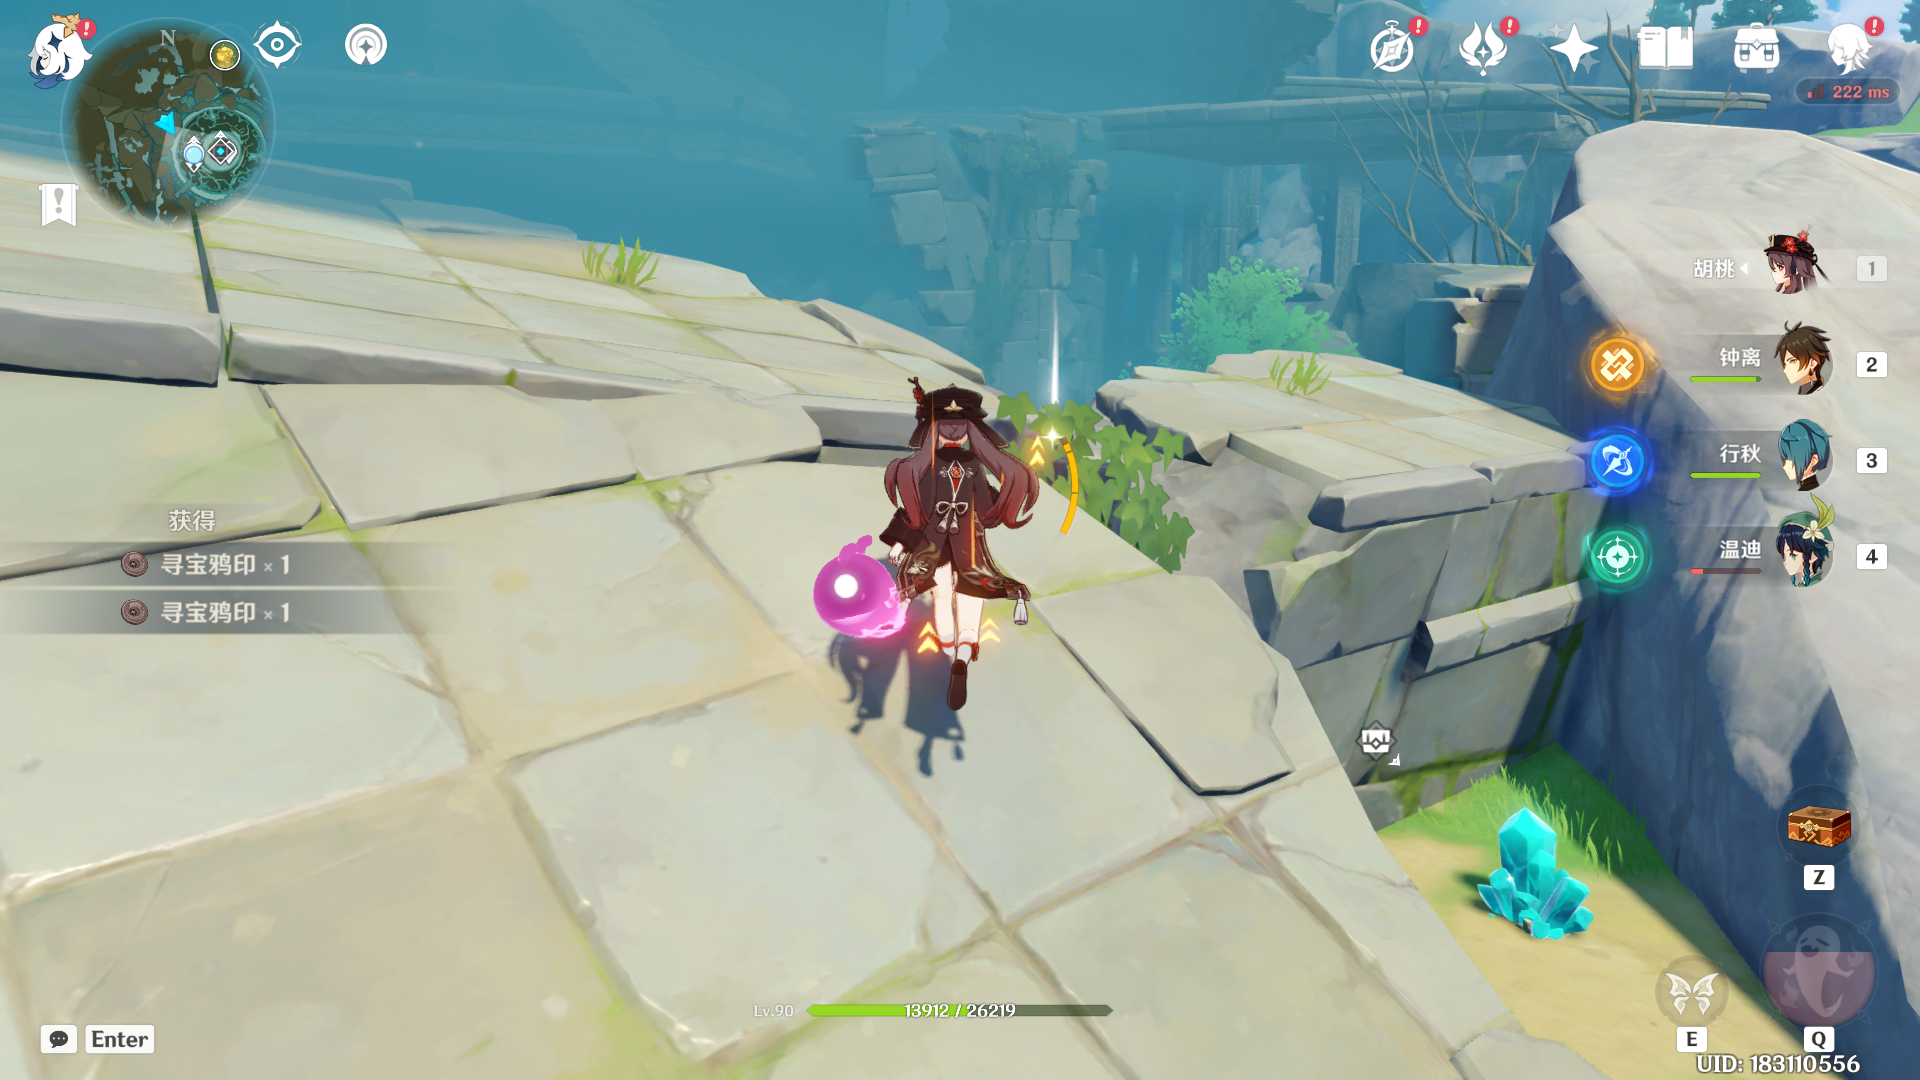character: (823, 339, 1095, 773)
